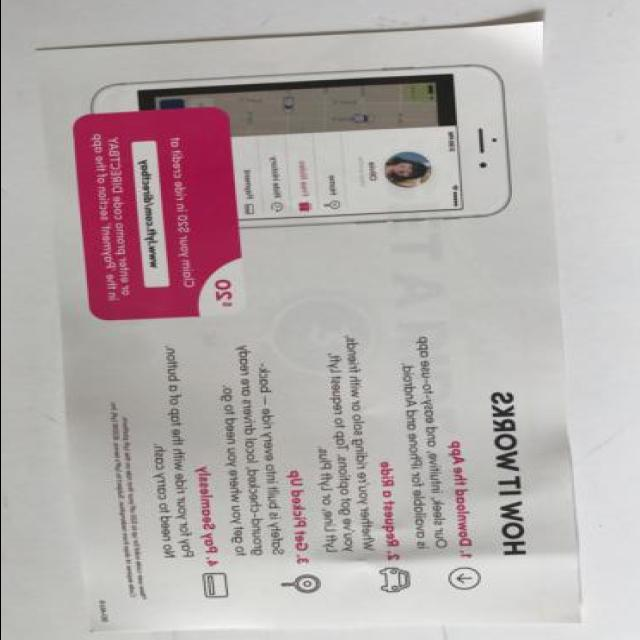kertas: (28, 16, 578, 638)
